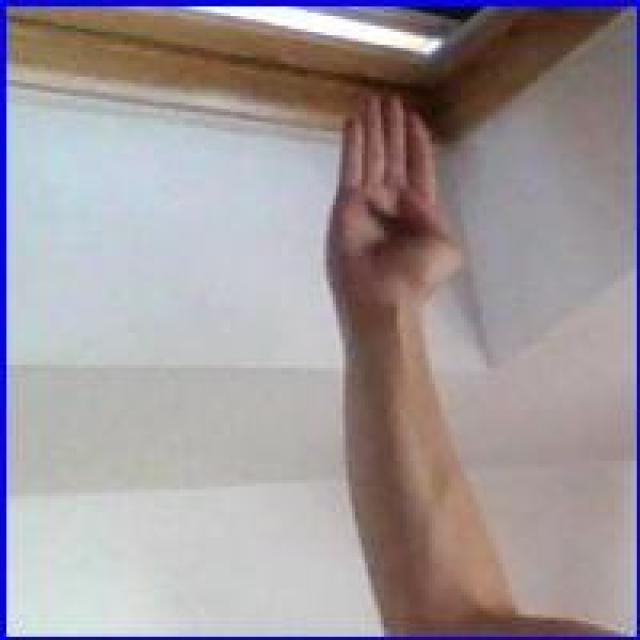B: (325, 85, 472, 312)
